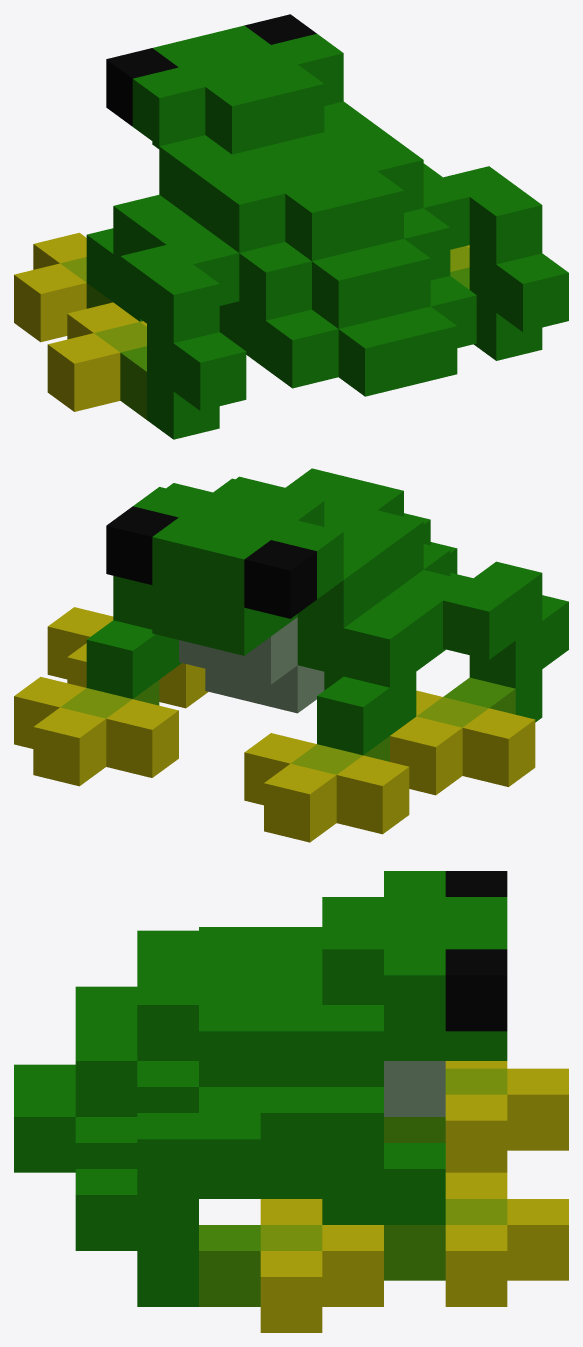
The model's file is frog.obj.
The picture shows the model from 3 angles, top to bottom: view 1: azimuth 30°, elevation 25°; view 2: azimuth 150°, elevation 25°; view 3: azimuth 270°, elevation 25°; orthographic projection. The views are drawn at different scales.
Bounding box in the file's own units: 1 × 0.5 × 0.9.
Materials: 1 (1 with a texture image).
